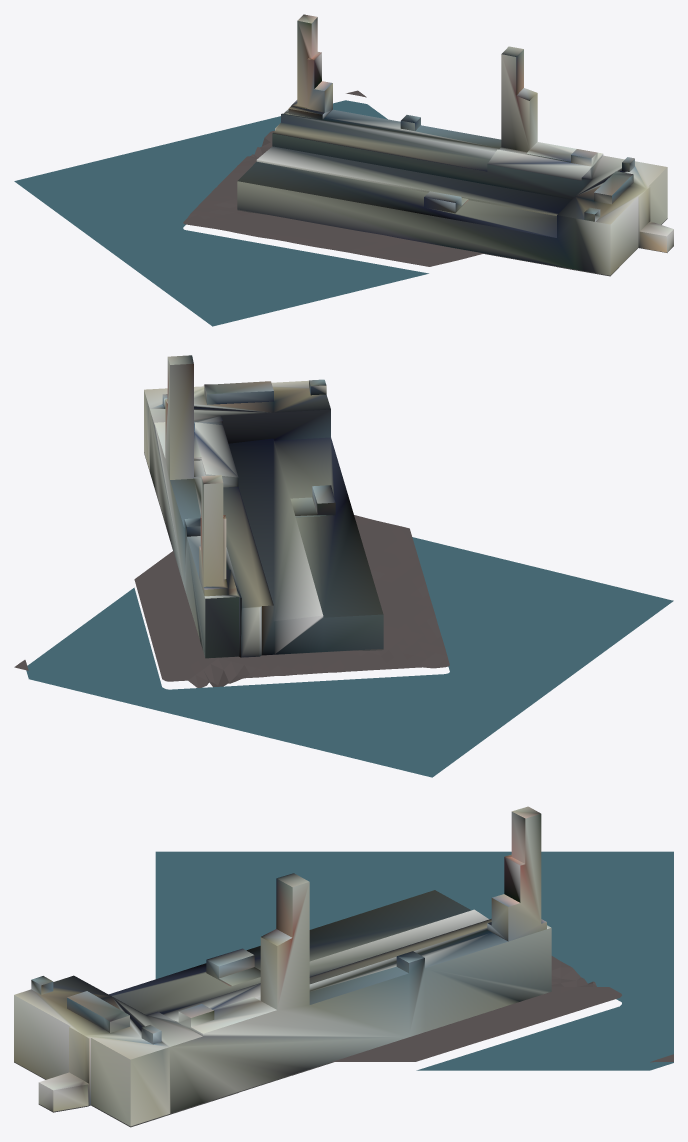
The picture shows the model from 3 angles, top to bottom: view 1: azimuth 30°, elevation 25°; view 2: azimuth 150°, elevation 25°; view 3: azimuth 270°, elevation 25°; orthographic projection. The views are drawn at different scales.
Visible parts, largest first — view 1: c_m12_p09; view 2: c_m12_p09; view 3: c_m12_p09.
Boxes of the visible parts, x1=… form: c_m12_p09: x1=14, y1=14, x2=673, y2=326; c_m12_p09: x1=14, y1=355, x2=673, y2=777; c_m12_p09: x1=14, y1=806, x2=673, y2=1127.
Bounding box in the file's own units: 166 × 56.53 × 163.
